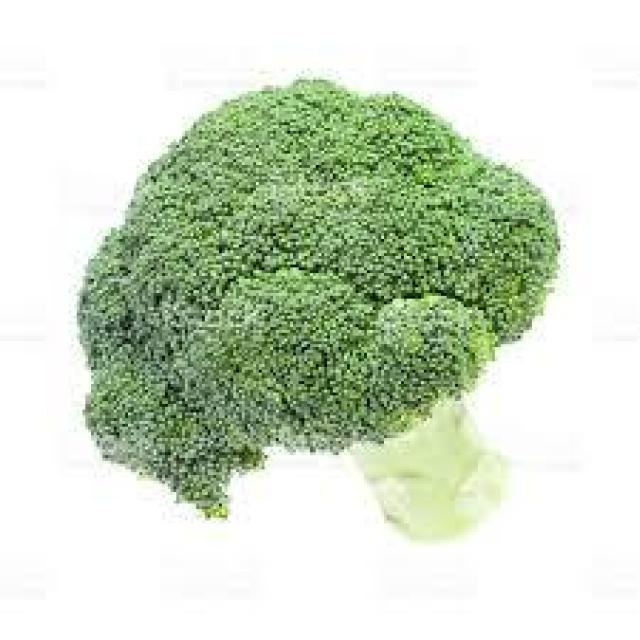organic: (80, 80, 560, 546)
